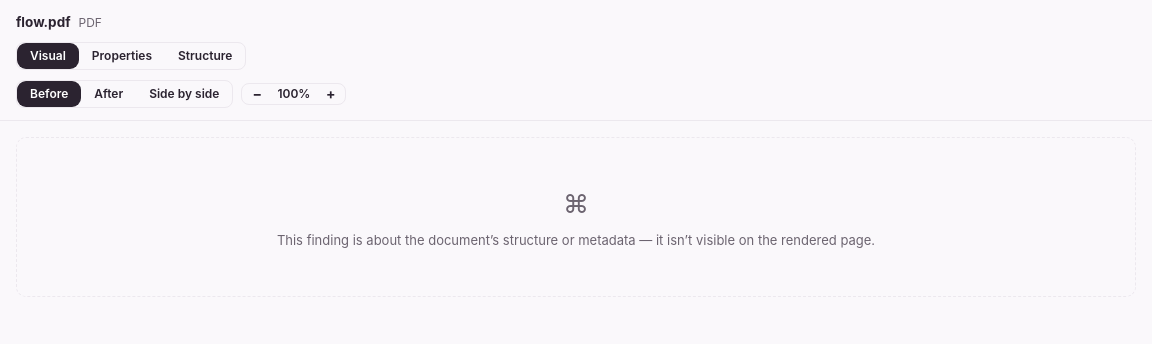
Test: RemediationPreview — adaptive view modes › offers a Structure mode with an HONEST, non-fabricated note for structure we cannot represent
Step 1. Click the tab "Structure" → (205, 56), box [165,43,245,69]
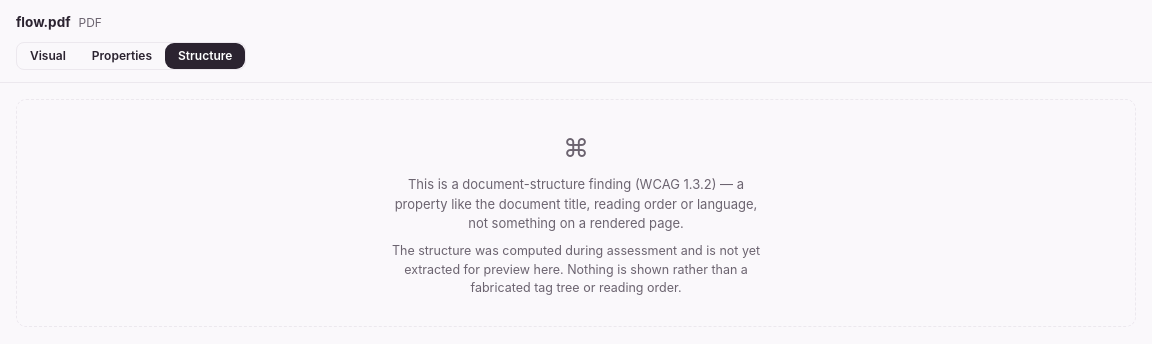
Now the text "document-structure finding" is shown, box [408,176,631,192]
Now the text "WCAG 1.3.2" is shown, box [631,176,716,192]
Now the text "computed during assessment" is shown, box [392,243,760,295]
